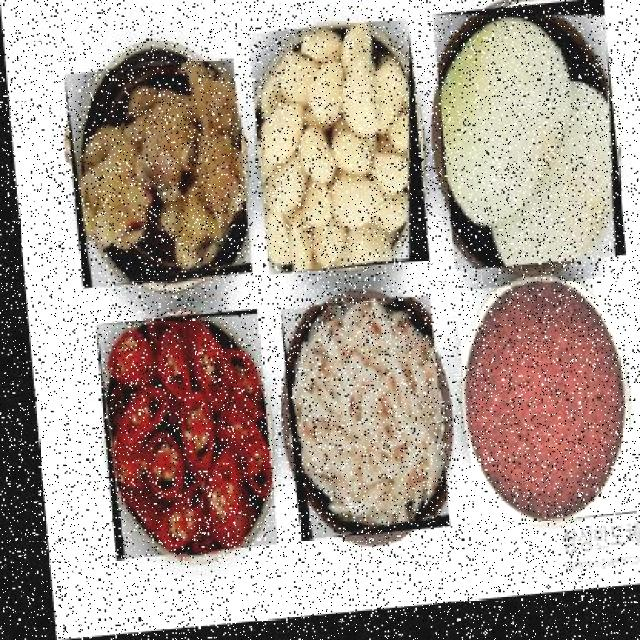Chili Pepper: (89, 313, 269, 562)
Chili Powder: (449, 287, 628, 538)
Garlic: (247, 26, 425, 282)
Ginger: (62, 62, 248, 292)
Onion: (432, 10, 623, 281)
